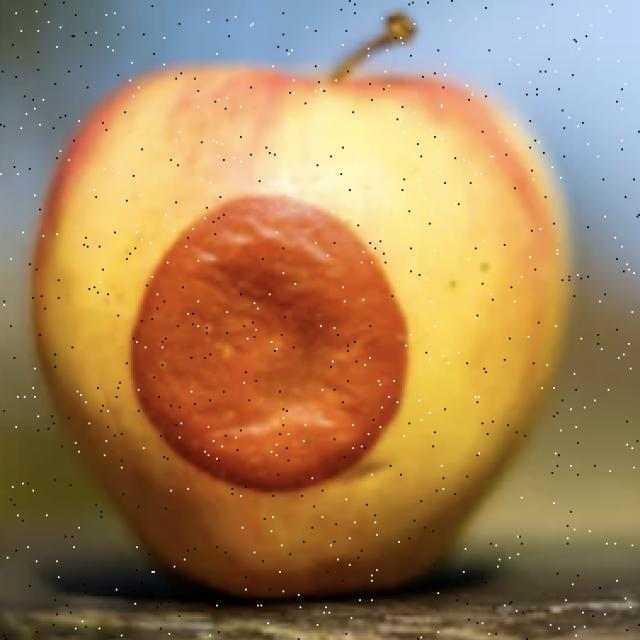Rotten: (45, 67, 560, 595)
